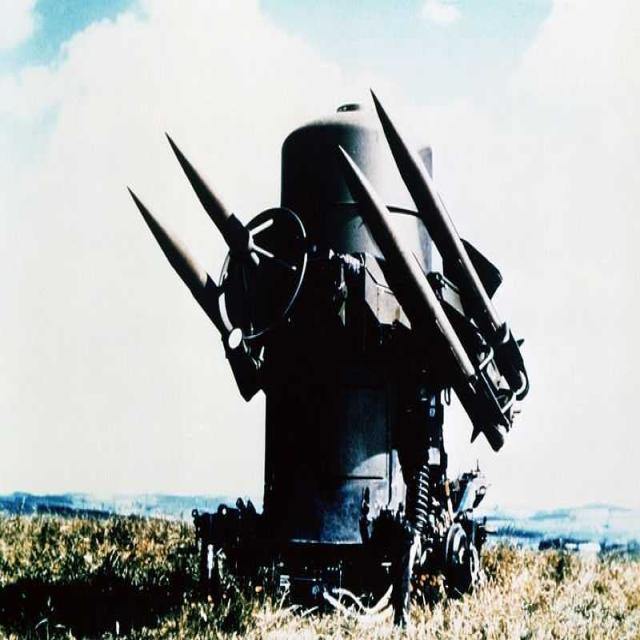missile: (365, 84, 529, 407), (336, 138, 505, 446), (126, 179, 260, 383), (163, 127, 256, 273)
